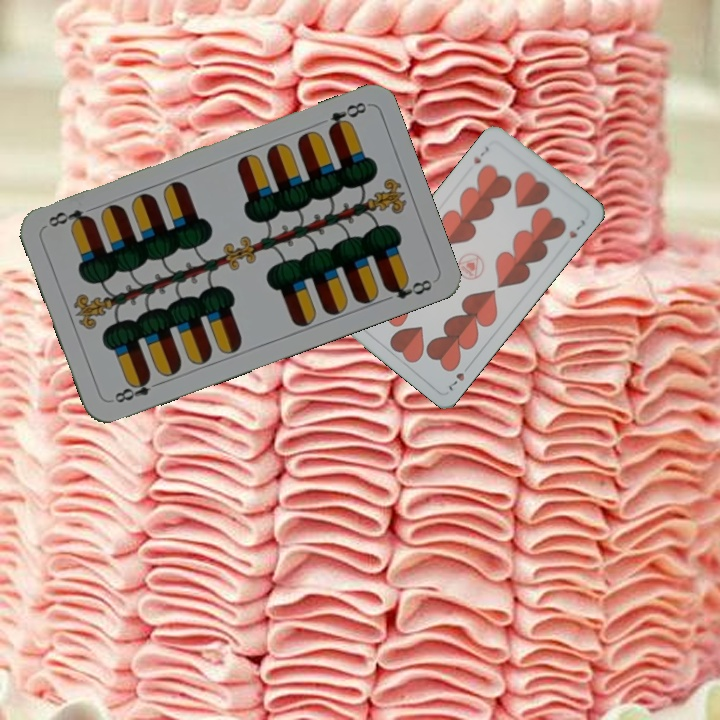E8: (110, 371, 164, 406), (324, 98, 369, 135)
H7: (444, 359, 474, 394), (470, 142, 493, 167)
